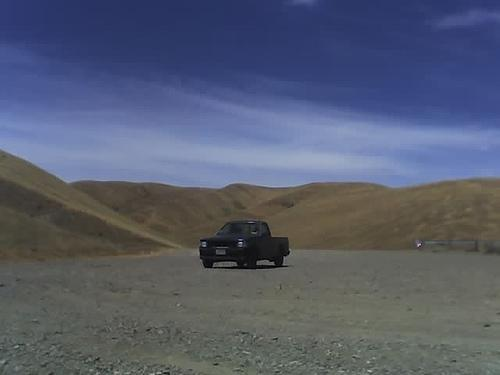truck: (199, 220, 290, 271)
